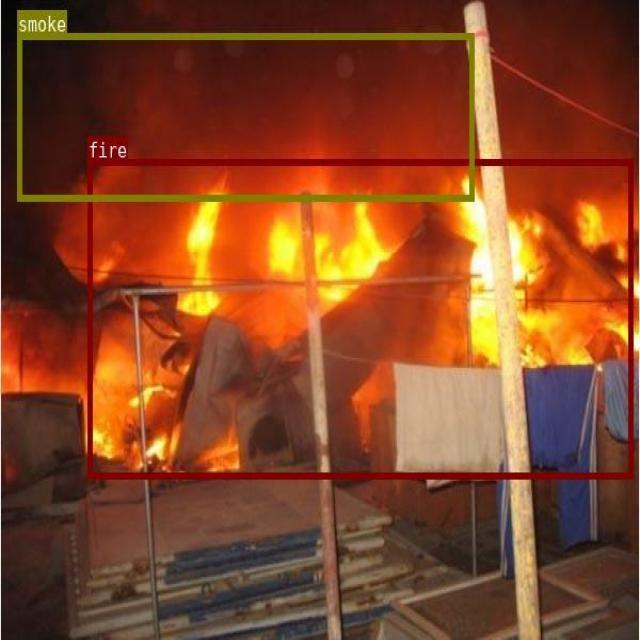fire: (88, 159, 633, 477)
smoke: (16, 32, 473, 199)
